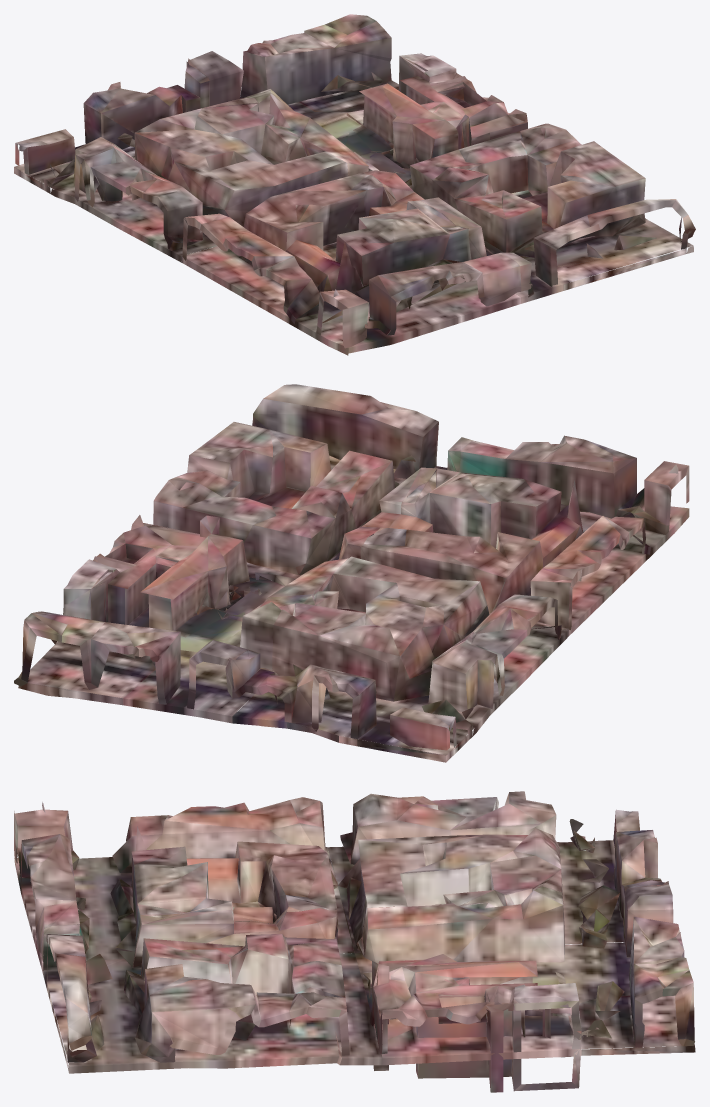
3 views of the same model, one above another, from view 1: azimuth 30°, elevation 25°; view 2: azimuth 150°, elevation 25°; view 3: azimuth 270°, elevation 25° (orthographic). The views are drawn at different scales.
Parts seen in each view (by area): view 1: Mesh_0; view 2: Mesh_0; view 3: Mesh_0.
Boxes of the visible parts, x1,y1,x2,y2 form: Mesh_0: (14, 14, 695, 355); Mesh_0: (14, 384, 689, 762); Mesh_0: (14, 791, 695, 1092).
Size of the model in its own units: 267 by 63.15 by 330.
Materials: 1 (1 with a texture image).
